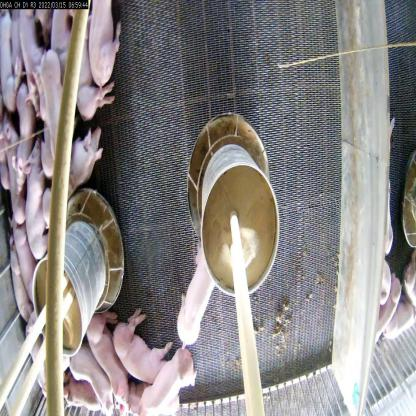Pig: (166, 248, 221, 348), (66, 10, 112, 119), (106, 314, 170, 392), (17, 136, 52, 262), (138, 346, 200, 415), (6, 72, 40, 194), (50, 120, 108, 190), (86, 0, 132, 83), (88, 307, 128, 399), (64, 339, 112, 415), (37, 47, 63, 174), (0, 209, 35, 298), (13, 14, 42, 89)
